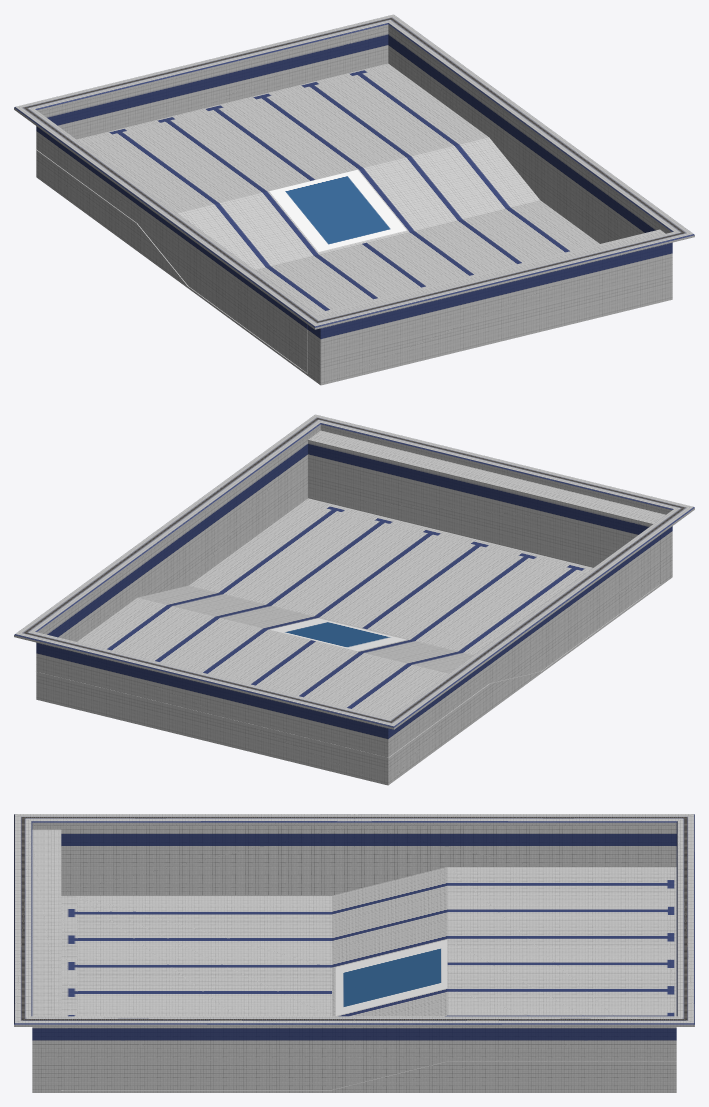
Rendered from PiscinaSalto.FBX.
3 renders of one model, top to bottom at view 1: azimuth 30°, elevation 25°; view 2: azimuth 150°, elevation 25°; view 3: azimuth 270°, elevation 25°, orthographic. The views are drawn at different scales.
Parts seen in each view (by area): view 1: PiscinaSaltoBorda, PiscinaPiso01, PiscinaPiso01Tecgraf; view 2: PiscinaPiso01, PiscinaSaltoBorda, PiscinaPiso01Tecgraf; view 3: PiscinaSaltoBorda, PiscinaPiso01, PiscinaPiso01Tecgraf.
Boxes of the visible parts, x1=… form: PiscinaSaltoBorda: x1=14, y1=14, x2=694, y2=385; PiscinaPiso01: x1=36, y1=63, x2=665, y2=373; PiscinaPiso01Tecgraf: x1=269, y1=170, x2=406, y2=251; PiscinaPiso01: x1=36, y1=430, x2=665, y2=757; PiscinaSaltoBorda: x1=14, y1=414, x2=694, y2=785; PiscinaPiso01Tecgraf: x1=270, y1=618, x2=406, y2=651; PiscinaSaltoBorda: x1=14, y1=814, x2=694, y2=1092; PiscinaPiso01: x1=32, y1=829, x2=676, y2=1090; PiscinaPiso01Tecgraf: x1=335, y1=939, x2=447, y2=1015.
Bounding box in the file's own units: 27.02 × 4.62 × 37.03.
